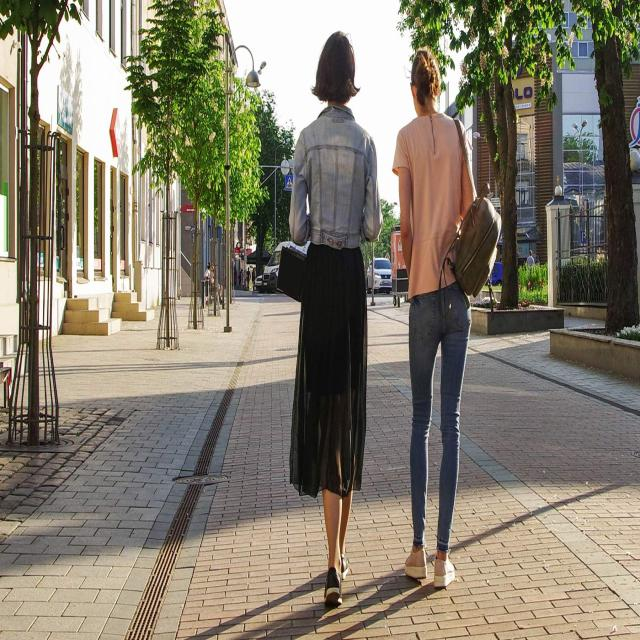Person: (277, 32, 383, 606), (393, 46, 501, 586)
